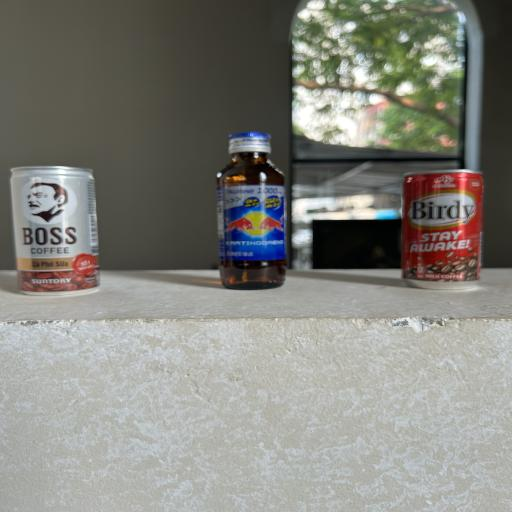birdy: (395, 163, 491, 295)
bo_huc: (215, 131, 290, 296)
boss_coffee: (8, 159, 106, 304)
